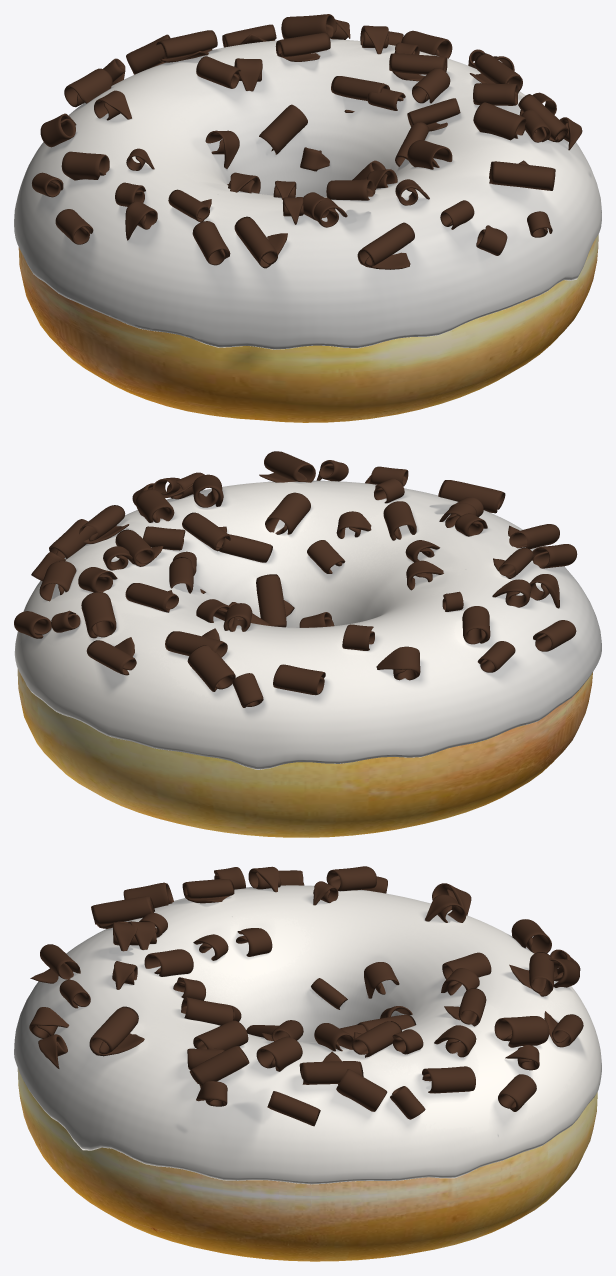
Rendered from white dark curls.glb.
The picture shows the model from 3 angles, top to bottom: view 1: azimuth 30°, elevation 25°; view 2: azimuth 150°, elevation 25°; view 3: azimuth 270°, elevation 25°; orthographic projection. The views are drawn at different scales.
Visible parts, largest first — view 1: white, coffee.001, choco & straw curls, Torus; view 2: white, coffee.001, choco & straw curls, Torus; view 3: white, coffee.001, choco & straw curls, Torus.
Part boxes in pixels (x1,y1,x2,y2): white: (14, 39, 601, 349); coffee.001: (14, 39, 601, 349); choco & straw curls: (32, 14, 582, 269); Torus: (18, 234, 598, 422); white: (15, 481, 600, 769); coffee.001: (14, 480, 601, 769); choco & straw curls: (14, 451, 577, 707); Torus: (17, 668, 592, 837); white: (14, 885, 601, 1184); coffee.001: (14, 885, 601, 1183); choco & straw curls: (29, 866, 583, 1126); Torus: (17, 1068, 597, 1261).
Bounding box in the file's own units: 0.1989 × 0.0804 × 0.1972.
Materials: 4 (2 with a texture image).
